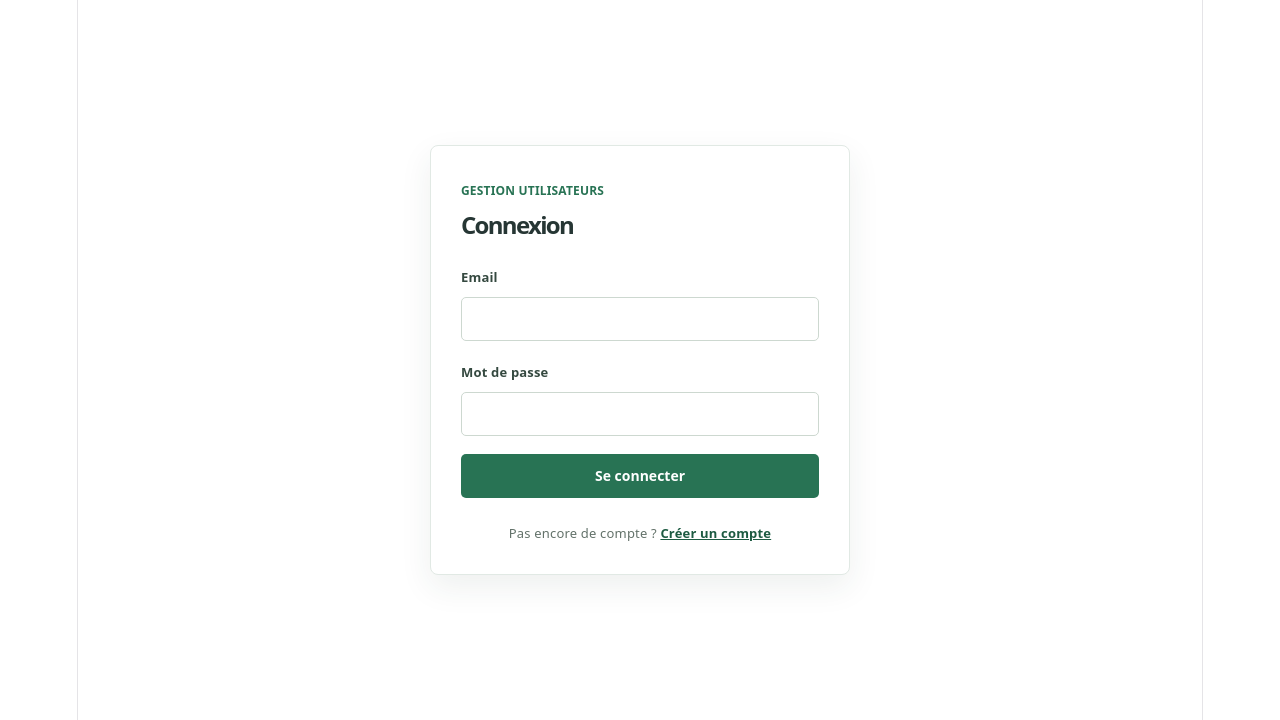
Scenario: LoginView › affiche l’erreur 401, vide le mot de passe et reste sur /login
This screenshot has width=1280, height=720.
Step 1. Type "admin@example.com" into the field with id "login-email" → (640, 319), box 461,297 -> 819,341
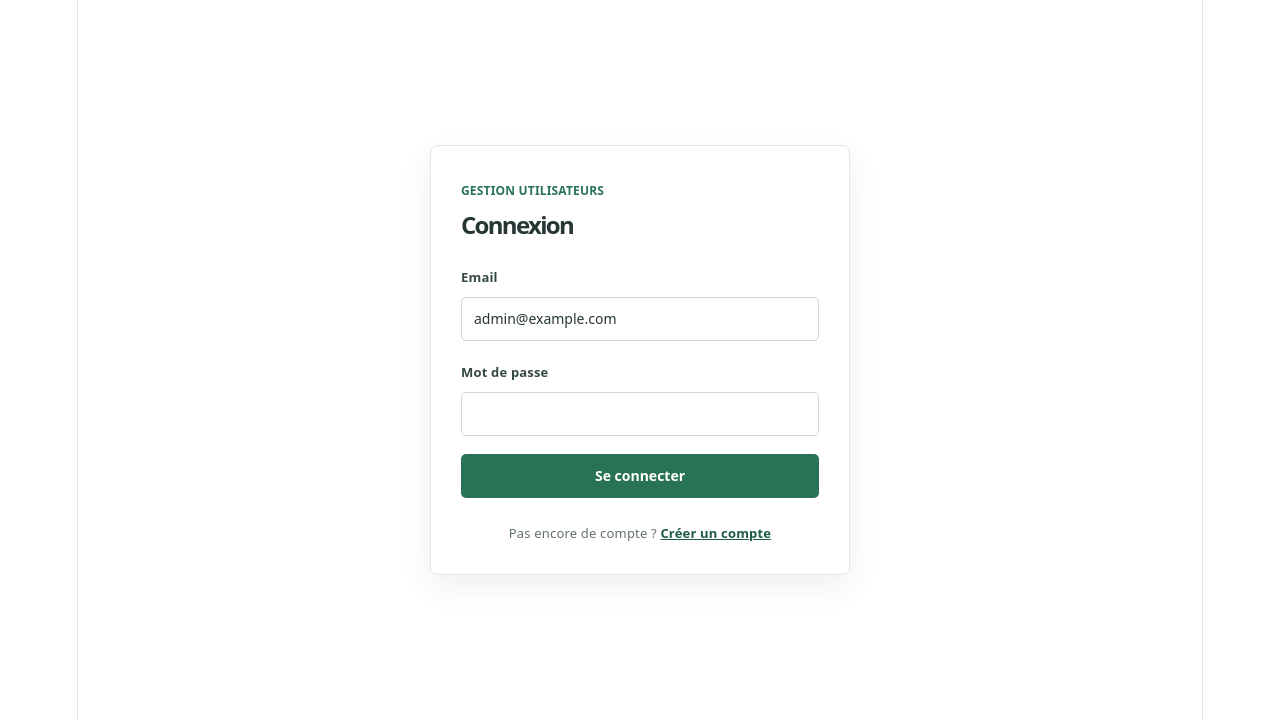
Step 2. Type "mauvais" into the password field with id "login-password" → (640, 414), box 461,392 -> 819,436
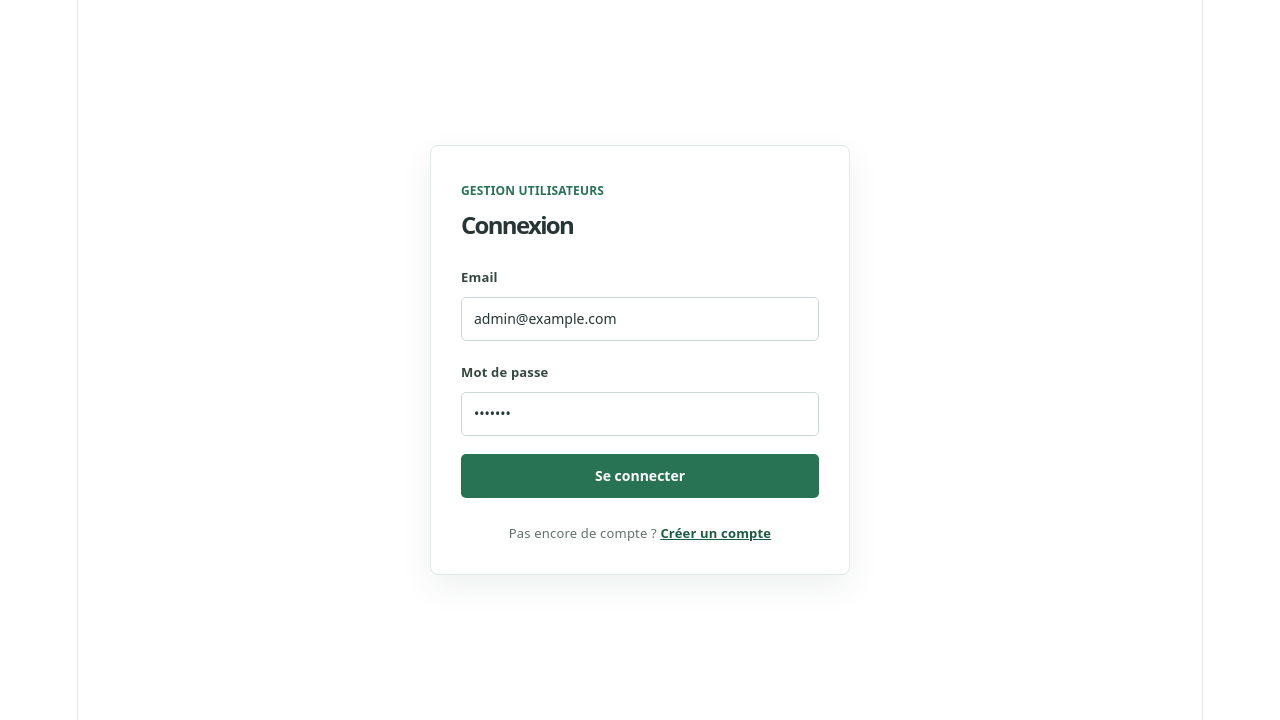
Step 3. Submit the form, box 461,264 -> 819,498
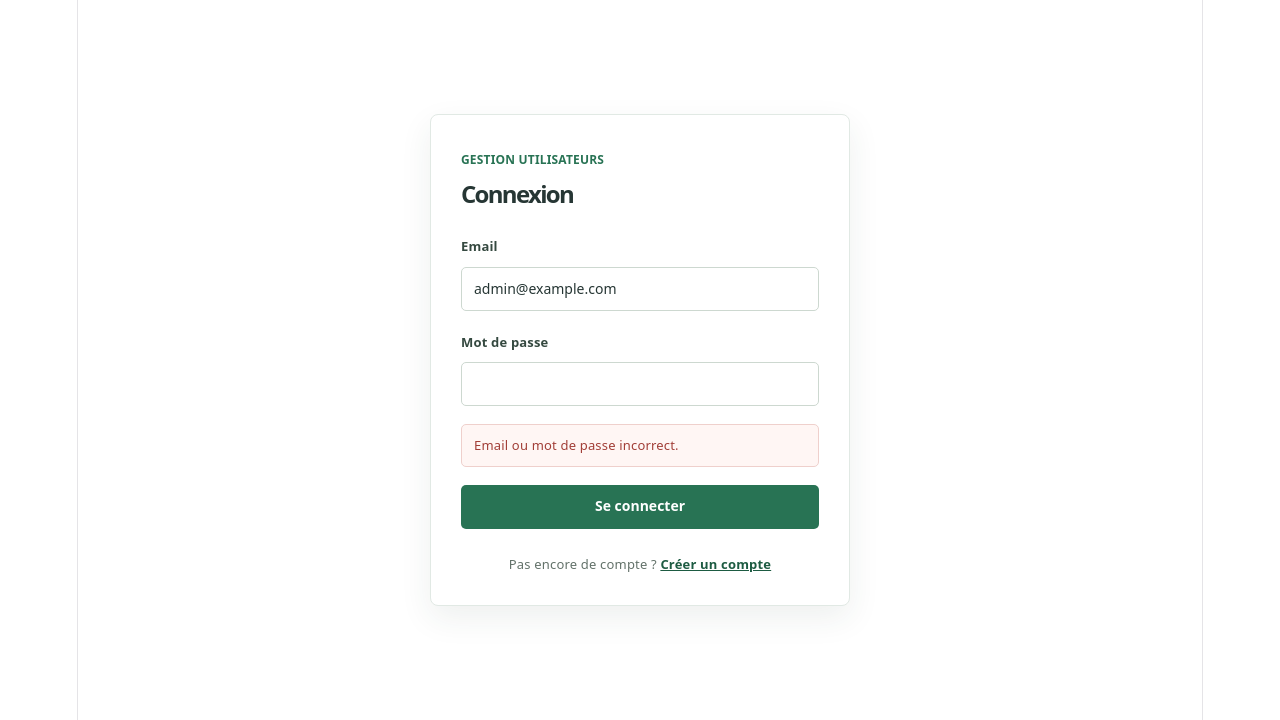
expect the message "Email ou mot de passe incorrect." is shown: met, box 461,424 -> 819,466
expect the password field with id "login-password" is empty: met, box 461,362 -> 819,406
